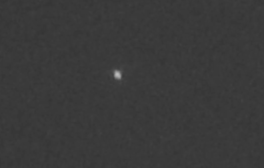Target: (115, 71, 121, 79)
